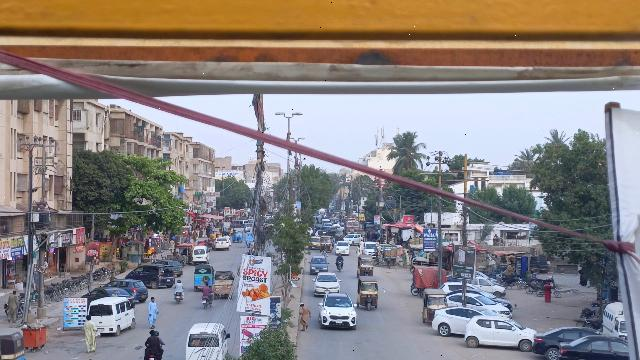Bike: (201, 296, 214, 310), (334, 259, 346, 273), (174, 291, 183, 306), (147, 351, 157, 360)
Car: (462, 314, 534, 351), (431, 305, 497, 337), (529, 325, 591, 358), (559, 334, 630, 360), (317, 291, 359, 332), (445, 293, 513, 317), (128, 264, 174, 289), (103, 277, 149, 301), (81, 287, 135, 305), (312, 271, 342, 296), (309, 254, 329, 273)
Person: (81, 314, 100, 355), (297, 300, 313, 335), (5, 290, 20, 324), (147, 296, 160, 329), (145, 330, 159, 351), (173, 277, 185, 295), (153, 328, 165, 346), (201, 282, 213, 298), (335, 252, 345, 262)
Rickshaw: (420, 287, 447, 323), (356, 276, 380, 312), (214, 269, 235, 300), (193, 264, 213, 293), (356, 254, 376, 278)
Van: (88, 296, 137, 336), (184, 321, 230, 360), (191, 245, 210, 266)
